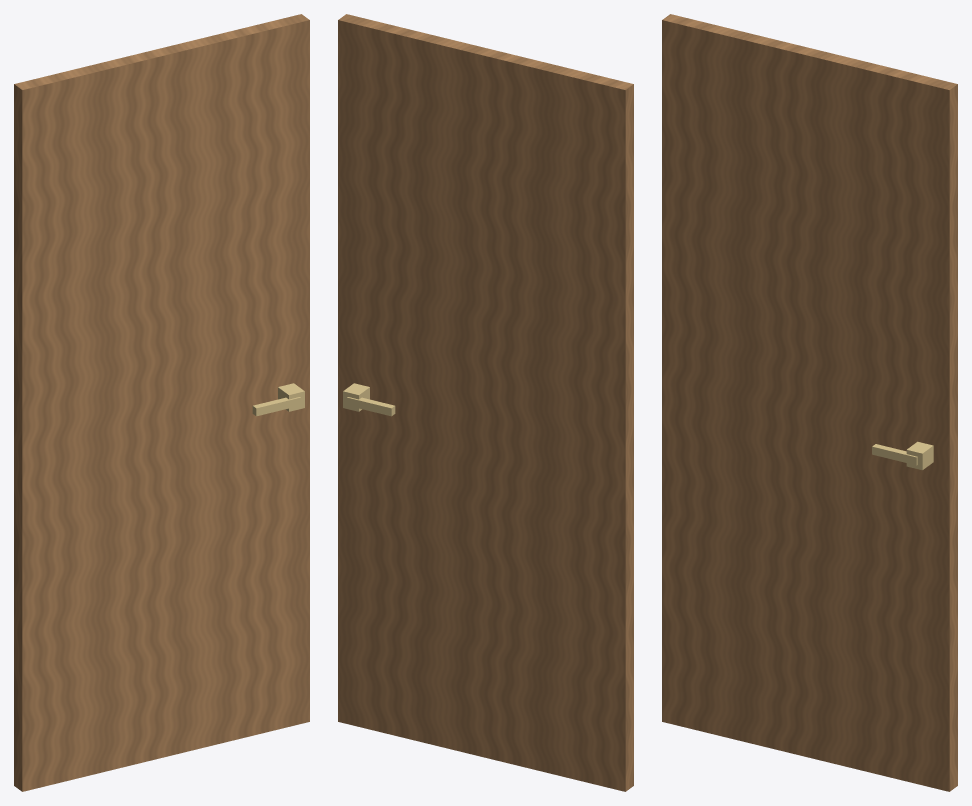
The model's file is mlo_door_oak.glb.
3 renders of one model, left to right at view 1: azimuth 30°, elevation 25°; view 2: azimuth 150°, elevation 25°; view 3: azimuth 330°, elevation 25°, orthographic.
Parts seen in each view (by area): view 1: Door_Oak; view 2: Door_Oak; view 3: Door_Oak.
Boxes of the visible parts, x1,y1,x2,y2 form: Door_Oak: (14, 14, 309, 791); Door_Oak: (338, 14, 633, 791); Door_Oak: (662, 14, 957, 791).
Bounding box in the file's own units: 0.9 × 2.1 × 0.175.
2 materials, 1 textured.
